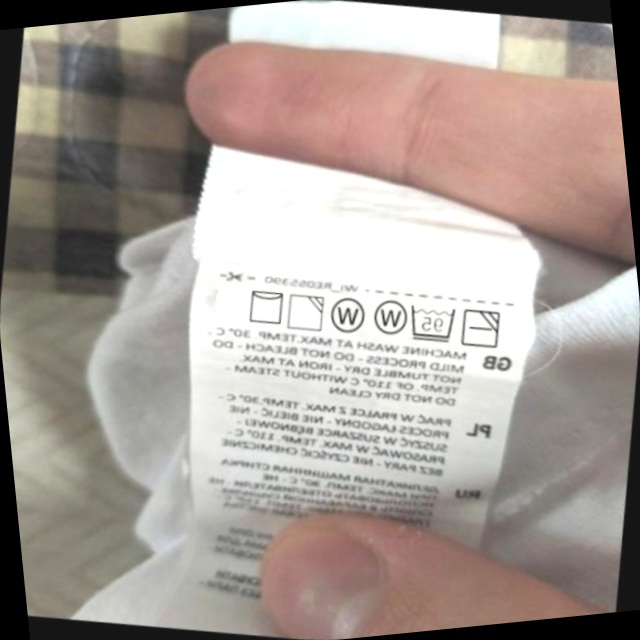95C: (402, 297, 462, 349)
dry_flat_in_shade: (456, 301, 507, 355)
line_dry: (240, 281, 291, 331)
shade_dry: (281, 287, 330, 337)
wet_clean: (366, 291, 413, 341), (324, 291, 371, 341)
